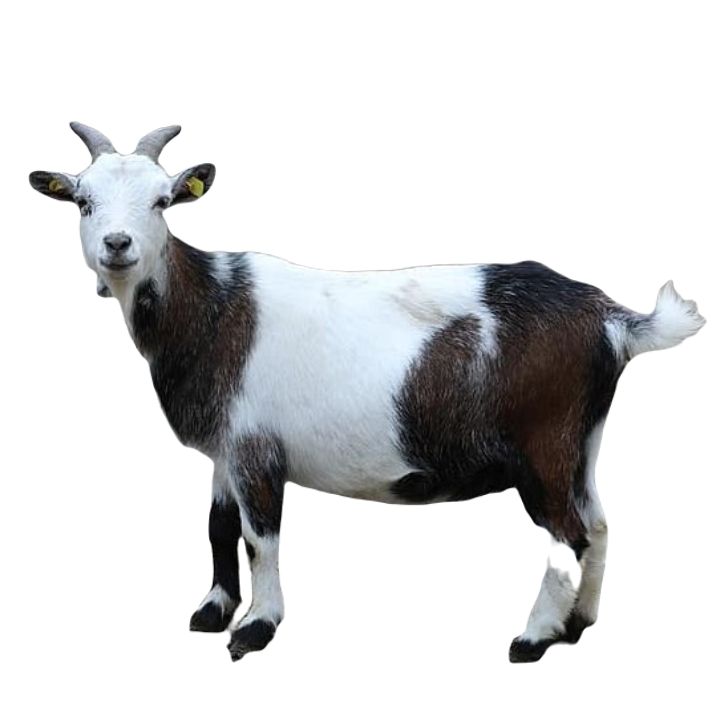Goat: (26, 121, 706, 662)
